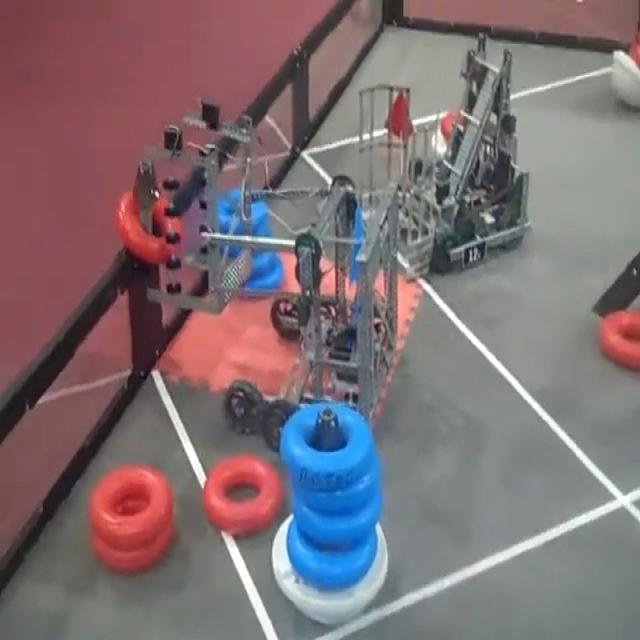Blue-Ring: (280, 403, 375, 490), (288, 520, 378, 590), (294, 488, 381, 549), (295, 467, 380, 514), (221, 191, 272, 242), (239, 261, 285, 300), (250, 243, 277, 272)
Red-Ring: (90, 468, 171, 549), (204, 453, 282, 536), (115, 192, 175, 264), (91, 522, 175, 572), (600, 310, 640, 369)
